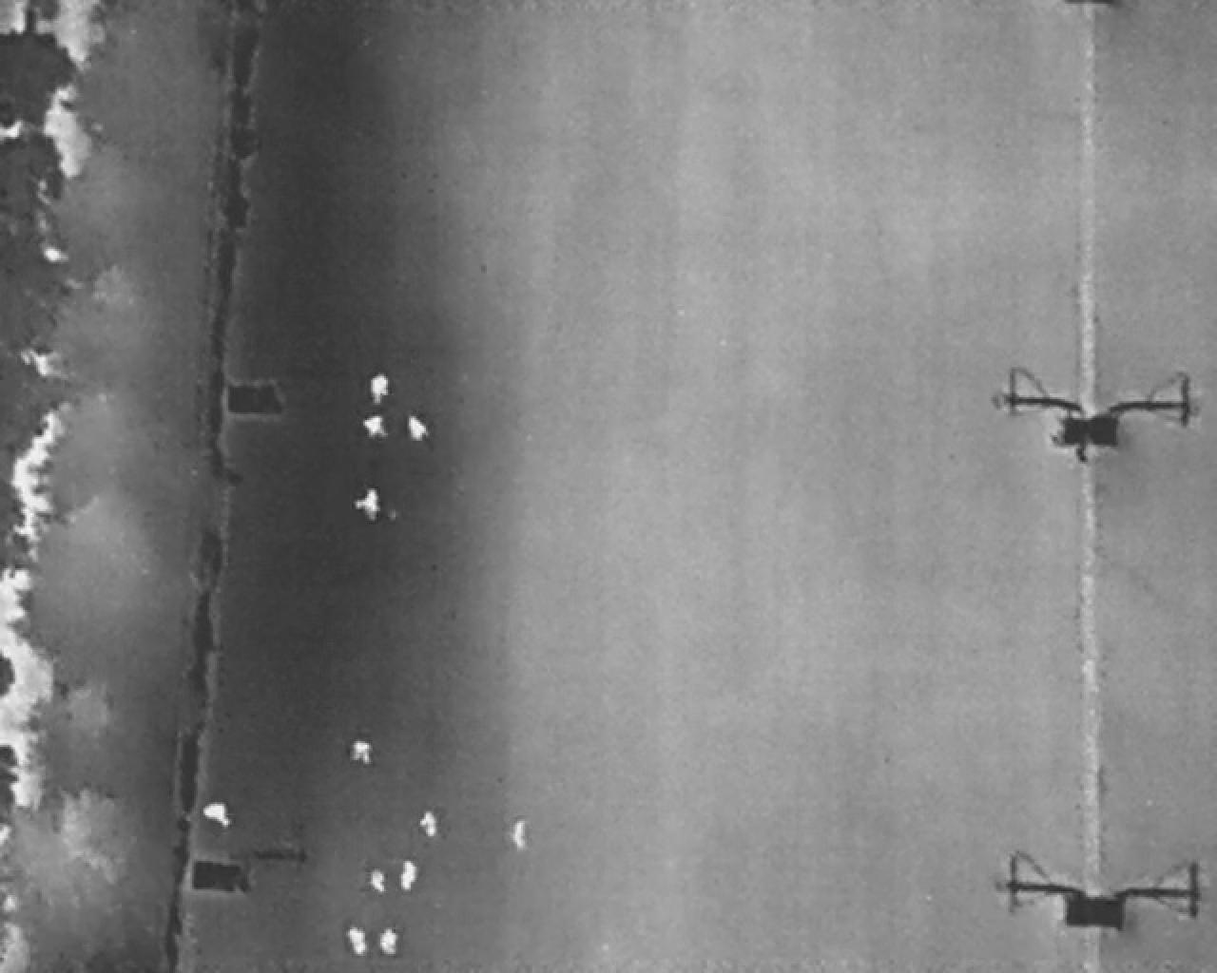person: (345, 925, 372, 957), (355, 489, 381, 522), (509, 814, 530, 854), (368, 372, 391, 408), (201, 801, 231, 828), (362, 415, 389, 440), (377, 928, 400, 957), (349, 740, 374, 765), (400, 860, 419, 892), (410, 413, 427, 444), (421, 811, 438, 839), (370, 869, 387, 892)
